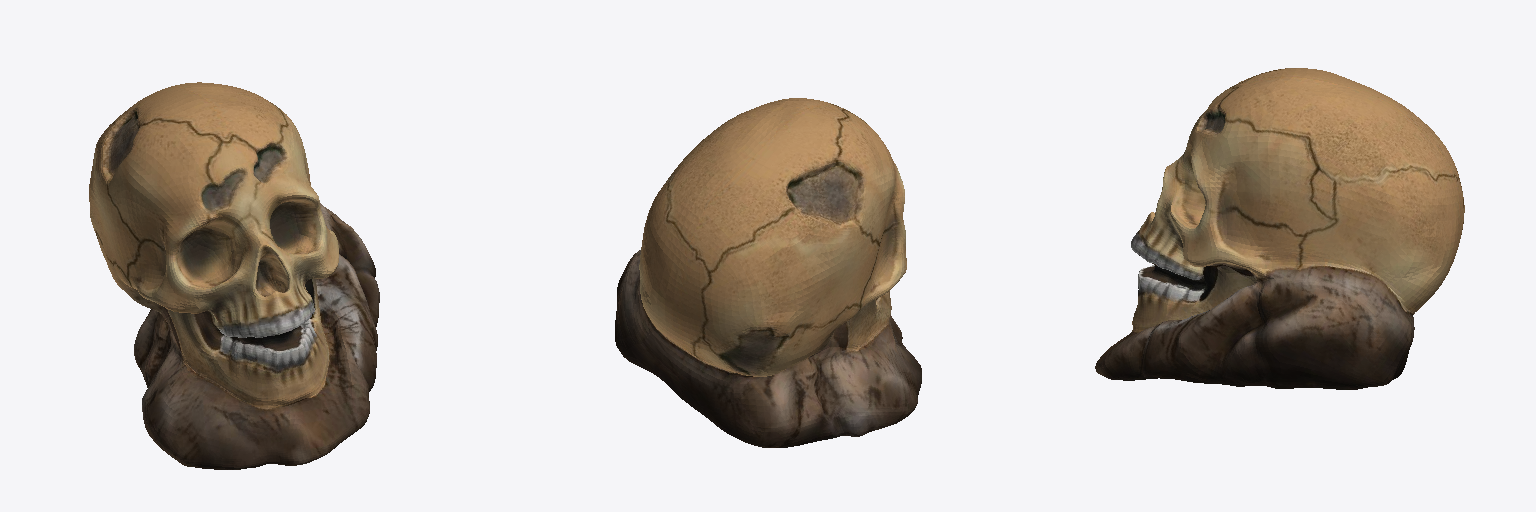
3 views of the same model, side by side, from view 1: azimuth 30°, elevation 25°; view 2: azimuth 150°, elevation 25°; view 3: azimuth 270°, elevation 25° (orthographic).
Bounding box in the file's own units: 0.759 × 0.9499 × 1.
1 materials, 1 textured.